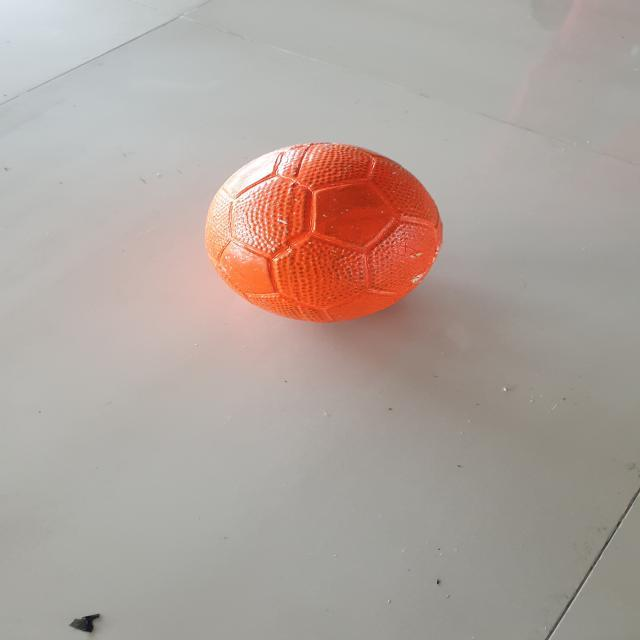bola: (203, 136, 457, 336)
